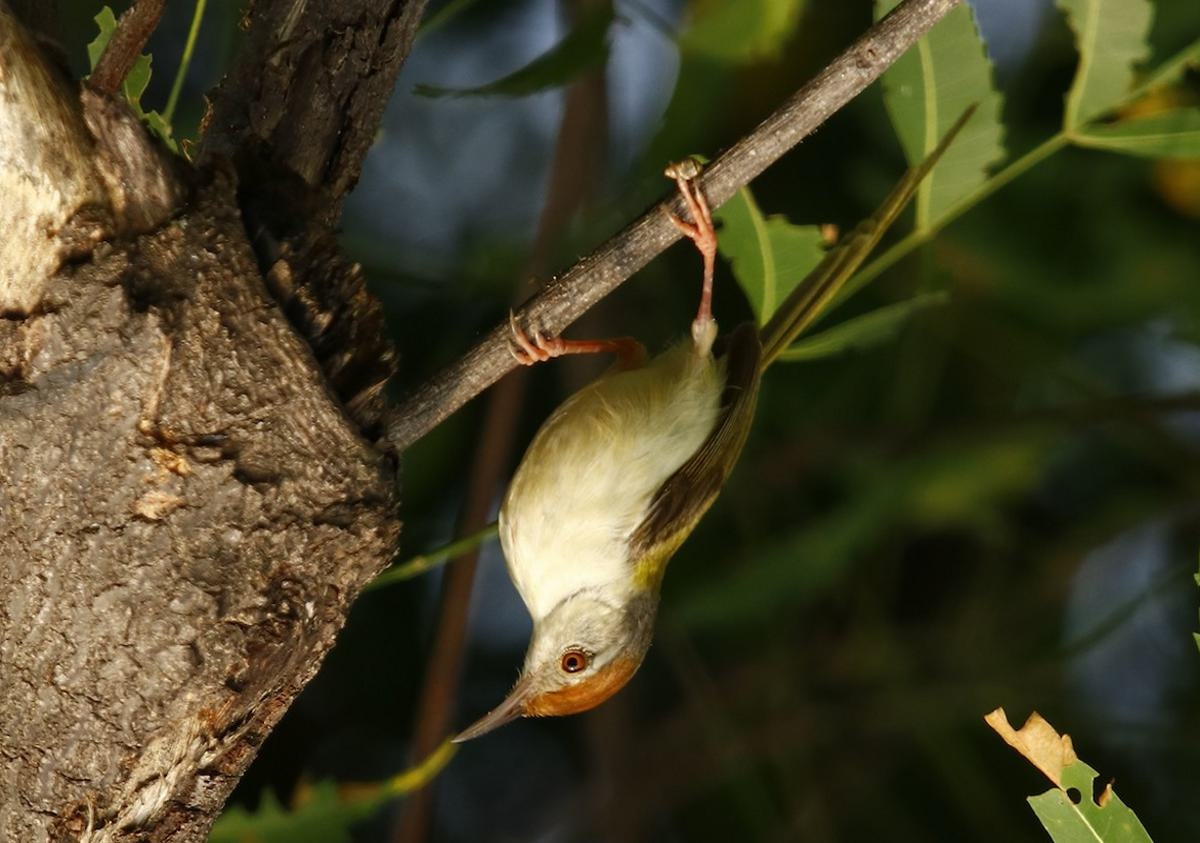tailorbird: (437, 91, 967, 775)
